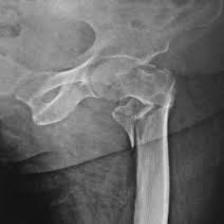comminuted-fracture: (1, 0, 222, 224)
